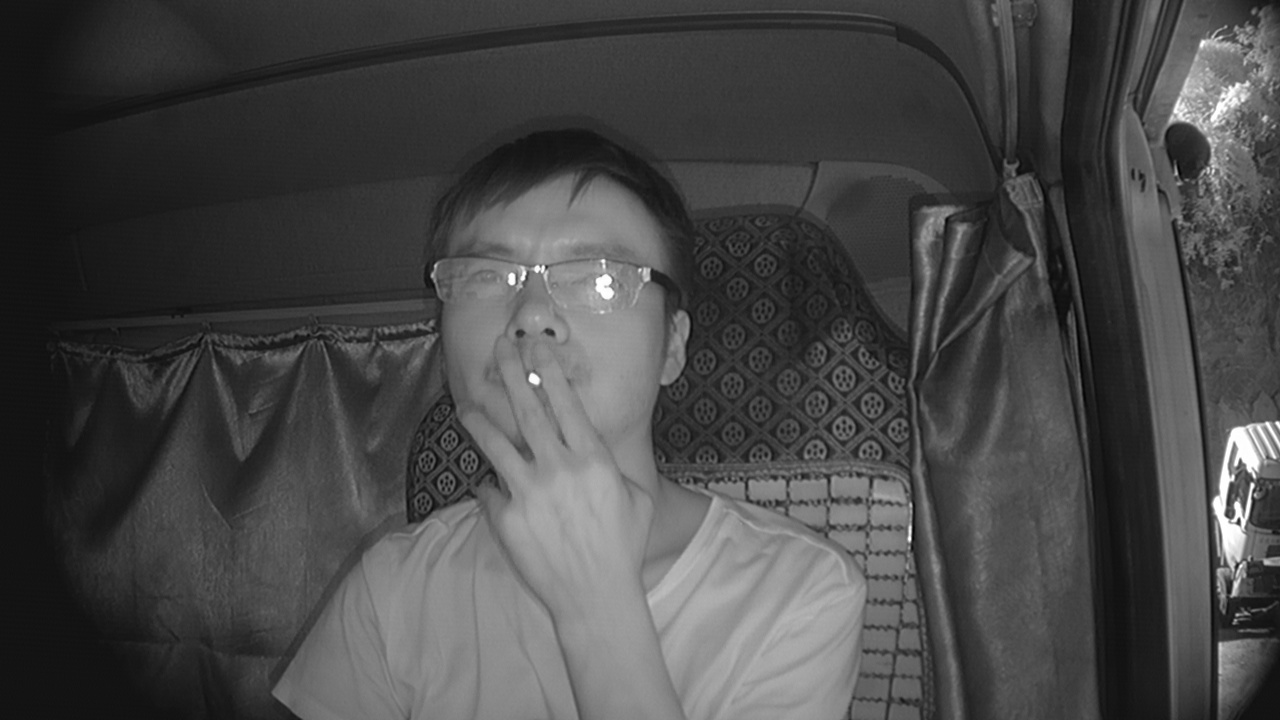hand: (451, 342, 633, 574)
